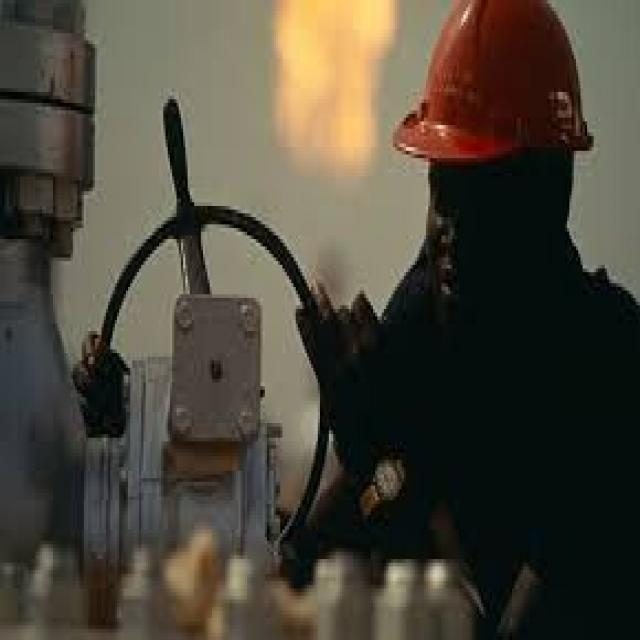Safety-Helmet: (388, 0, 614, 180)
